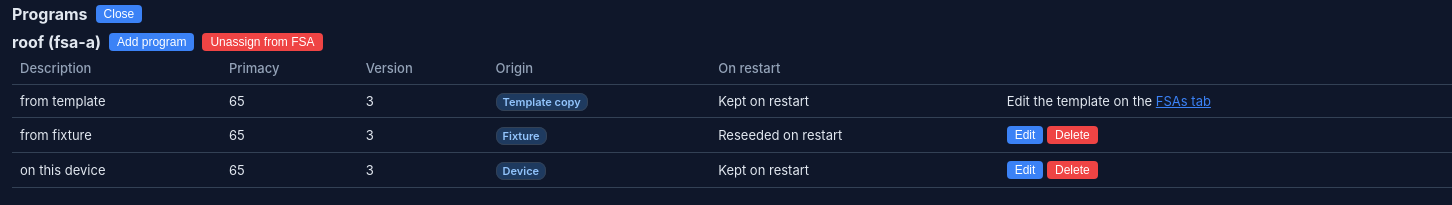
DevicePrograms delete › asks to confirm, then deletes on the device route and reloads
The width and height of the screenshot is (1452, 205).
Click the button with test id "program-delete-derp-d". click: (1072, 170)
box: [1047,161,1098,179]
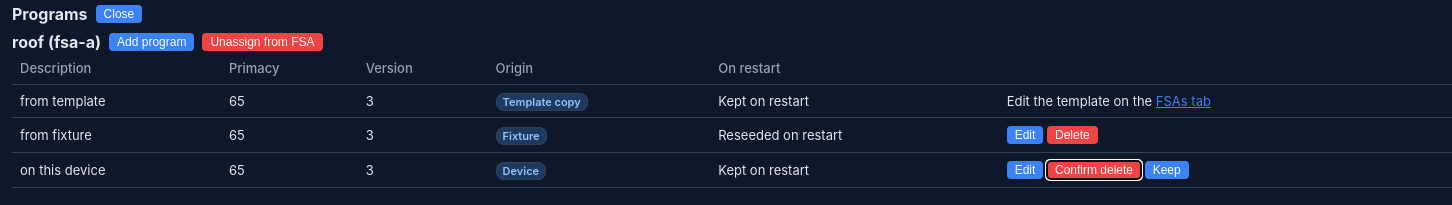
Click the button with test id "program-delete-confirm-derp-d". click: (1094, 170)
box: [1047,161,1141,179]
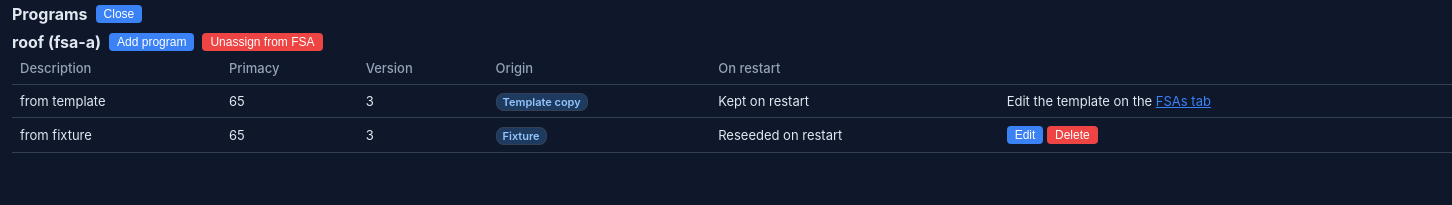
Check: the row with test id "program-row-derp-d" is gone
